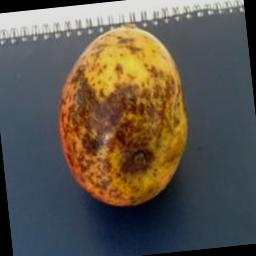Mango Rotten: (39, 11, 204, 220)
